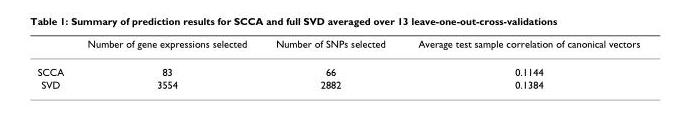table: (36, 37, 639, 90)
table column: (401, 37, 639, 90), (75, 37, 260, 90), (260, 37, 401, 90), (36, 37, 75, 90)
table column header: (36, 37, 639, 57)
table row: (36, 37, 639, 57), (36, 57, 639, 77), (36, 77, 639, 90)
